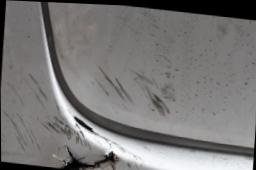Bumper: (0, 0, 251, 170)
Dickey: (44, 2, 256, 147)
